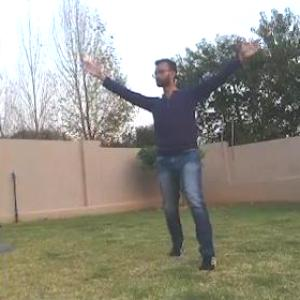takeoff: (82, 31, 260, 269)
